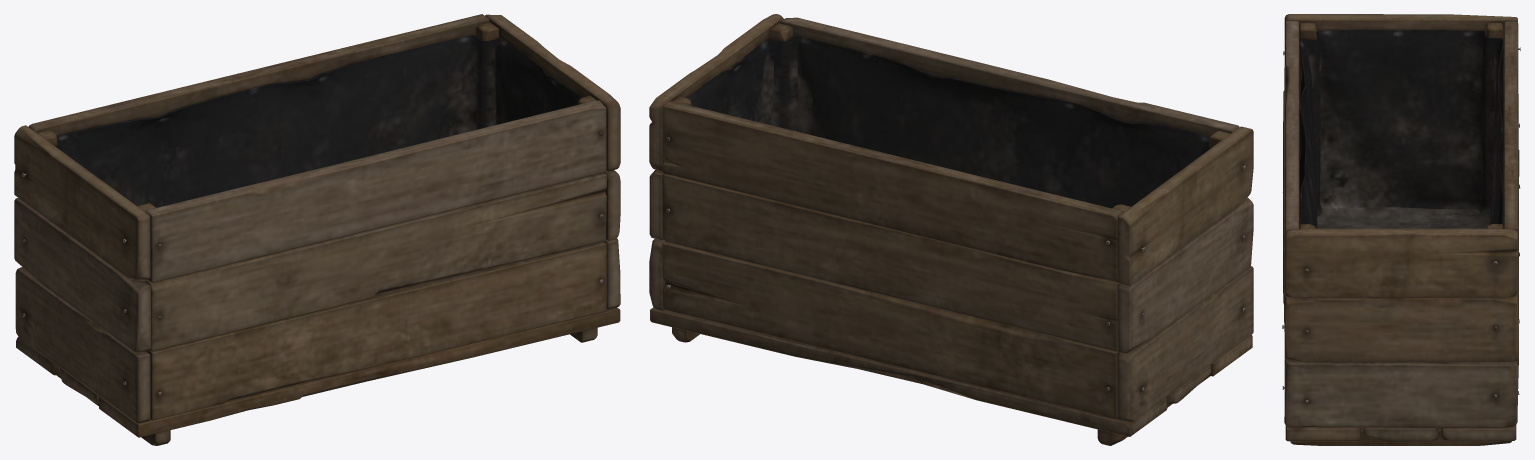
The model's file is planter-box.glb.
3 views of the same model, side by side, from view 1: azimuth 30°, elevation 25°; view 2: azimuth 150°, elevation 25°; view 3: azimuth 270°, elevation 25° (orthographic). The views are drawn at different scales.
Parts seen in each view (by area): view 1: planter_box_01; view 2: planter_box_01; view 3: planter_box_01.
Part boxes in pixels (x1=…): planter_box_01: x1=14, y1=14, x2=620, y2=445; planter_box_01: x1=649, y1=14, x2=1253, y2=445; planter_box_01: x1=1282, y1=14, x2=1520, y2=445.
Bounding box in the file's own units: 0.9126 × 0.425 × 0.4137.
Materials: 1 (1 with a texture image).
